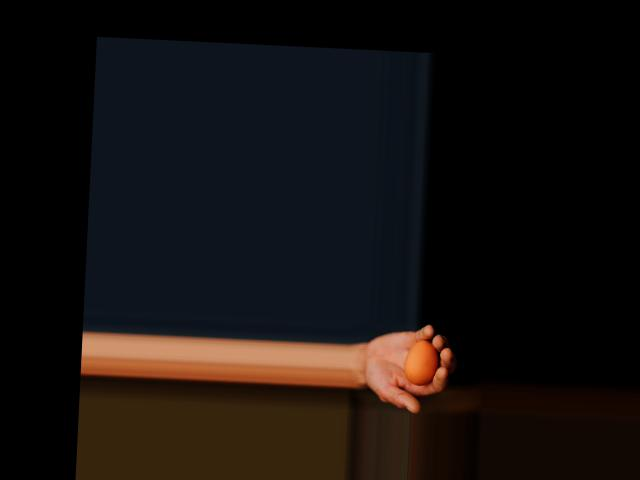egg: (403, 338, 438, 385)
